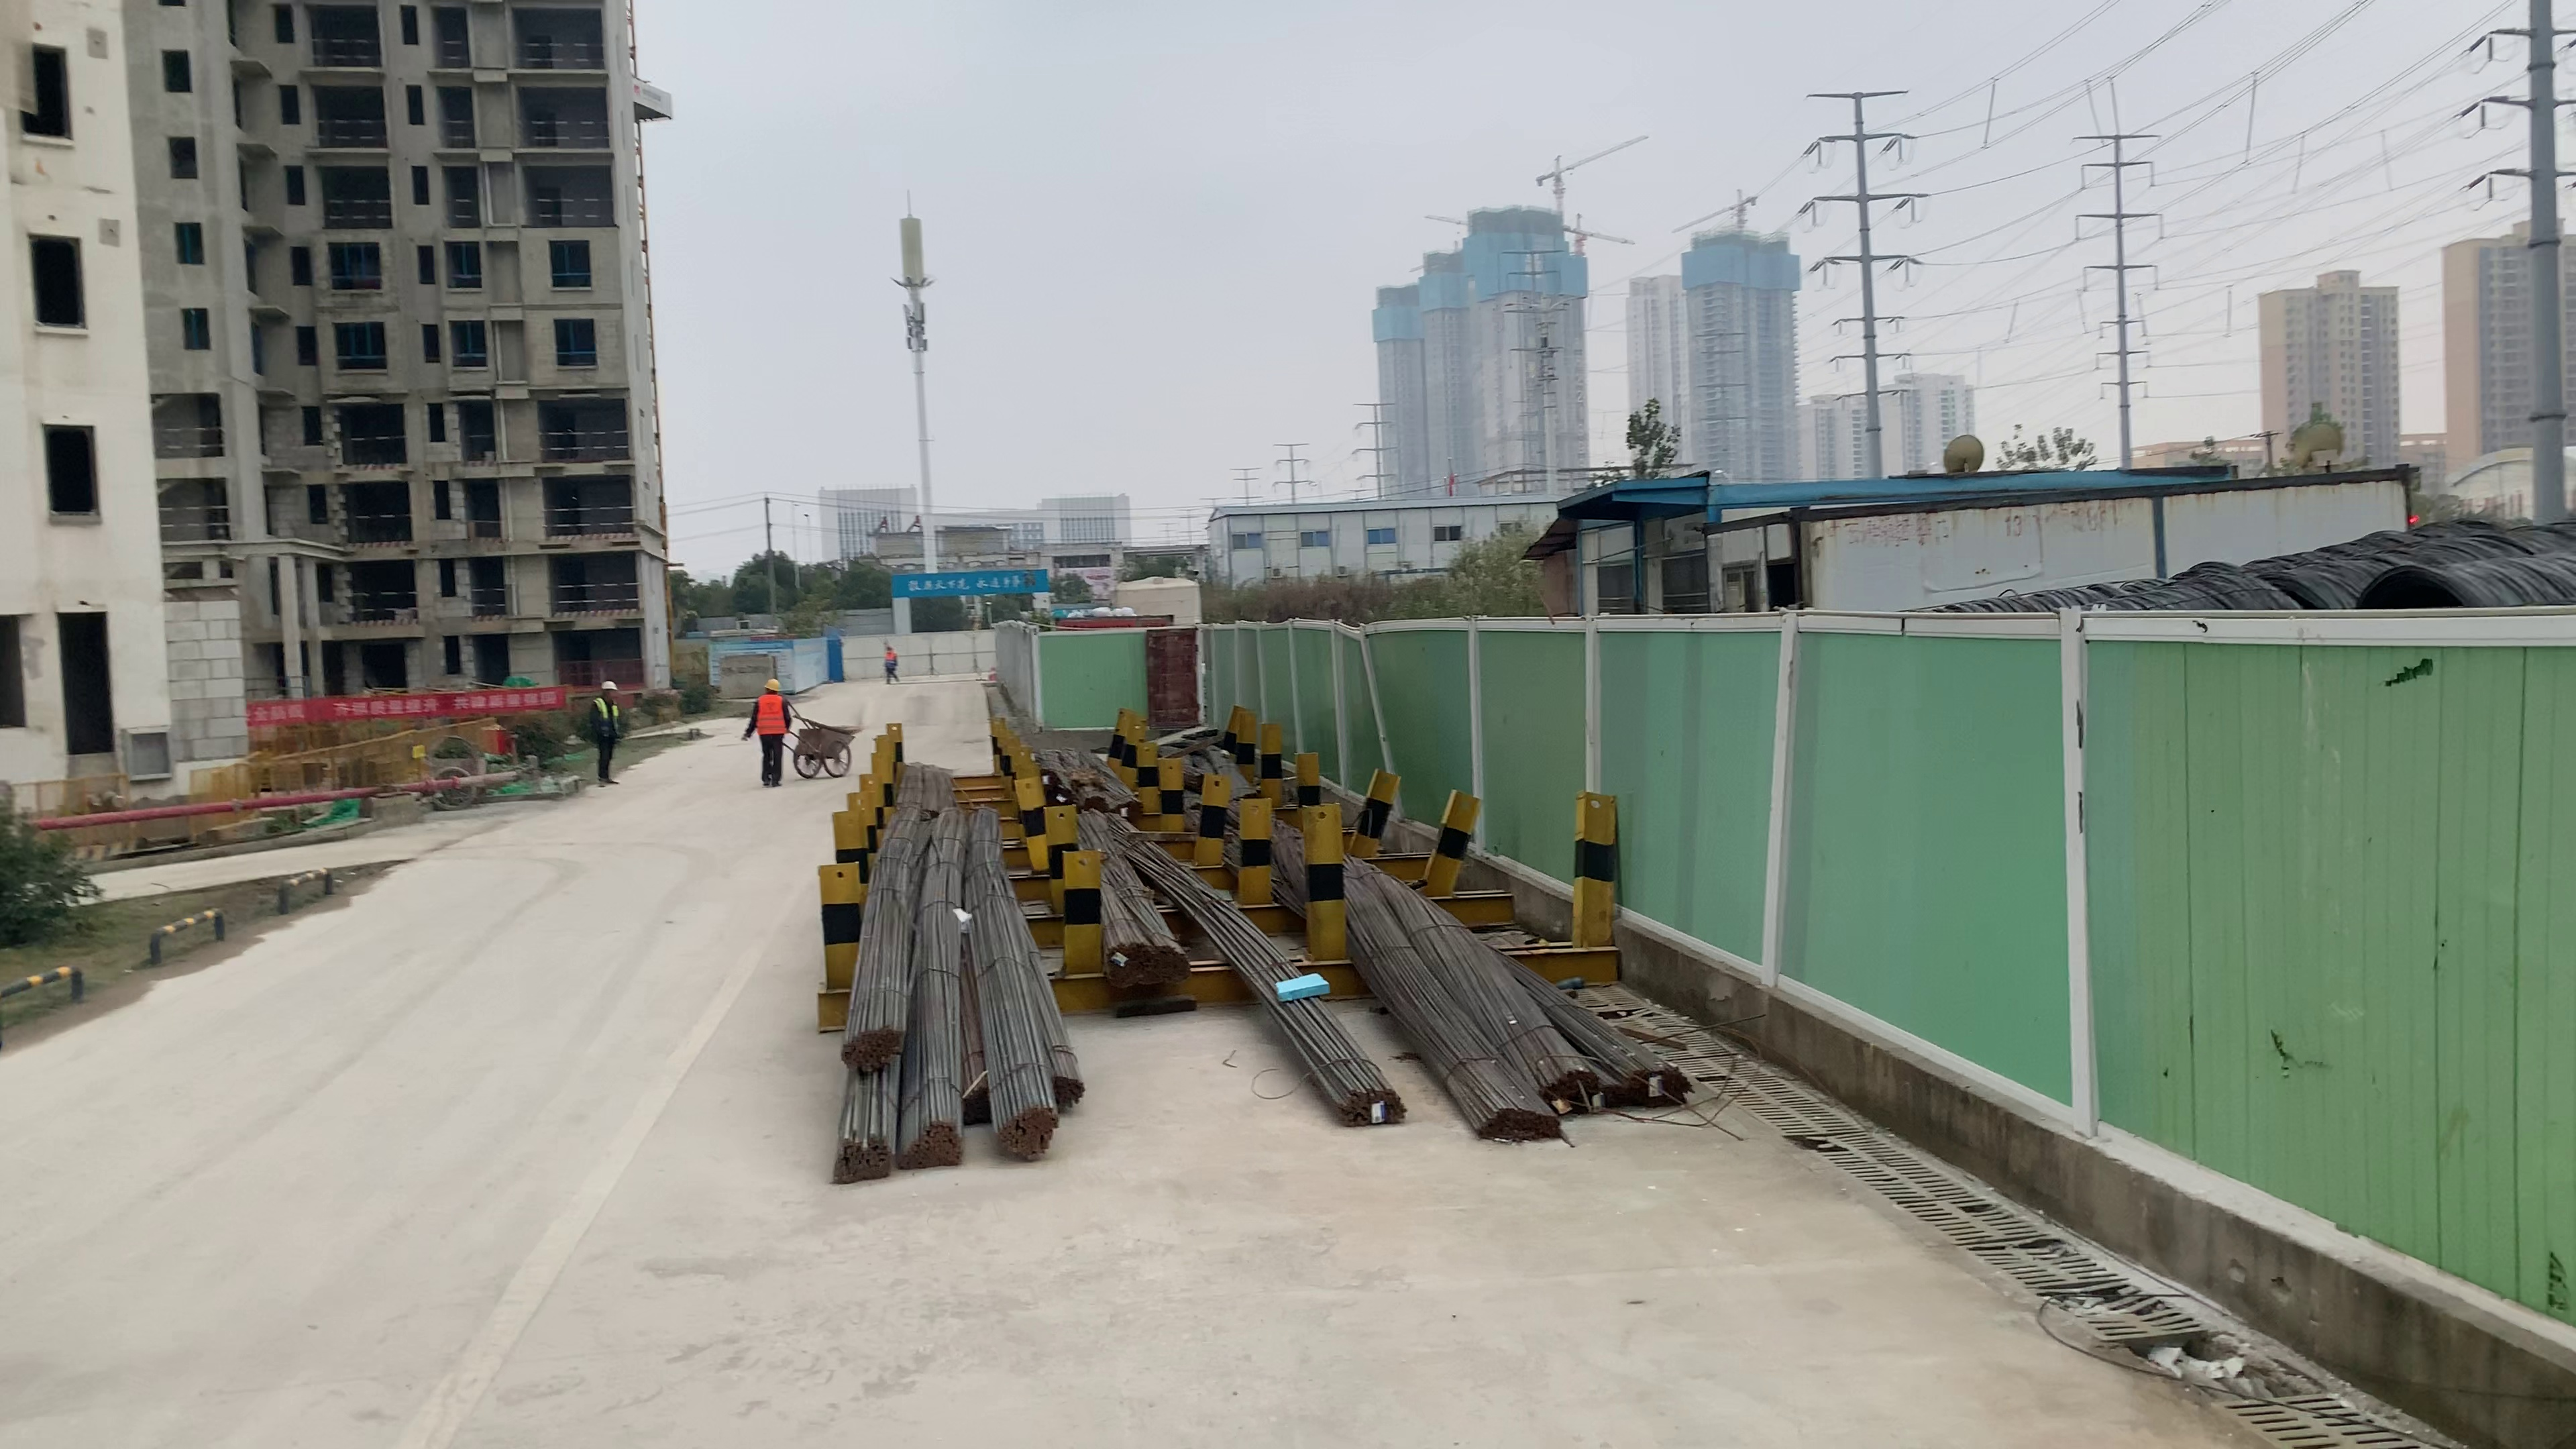rebar: (1323, 1077, 1410, 1129), (1614, 1062, 1690, 1104), (902, 1116, 961, 1171), (1477, 1108, 1557, 1146), (1541, 1063, 1598, 1115), (846, 1019, 899, 1070), (828, 1136, 886, 1180), (994, 1109, 1047, 1157), (955, 1070, 1000, 1118), (1108, 939, 1152, 984), (1049, 1072, 1092, 1115), (1150, 943, 1189, 982)
